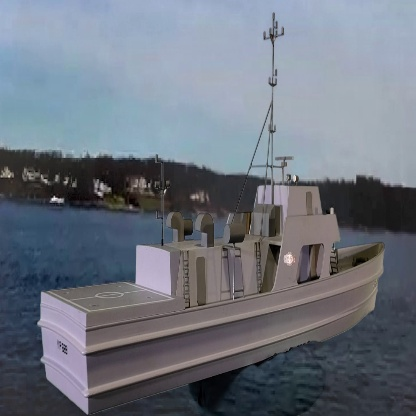YP689: (35, 0, 381, 416)
